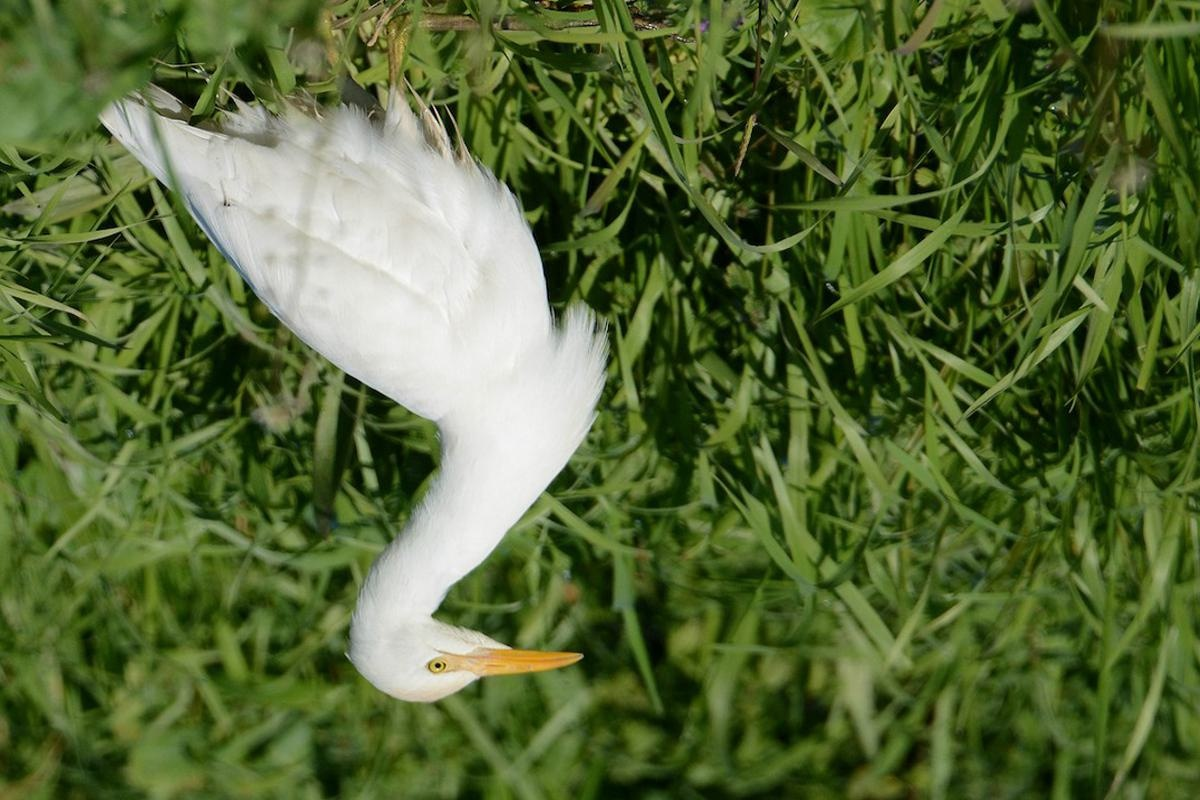egret: (133, 84, 607, 711)
